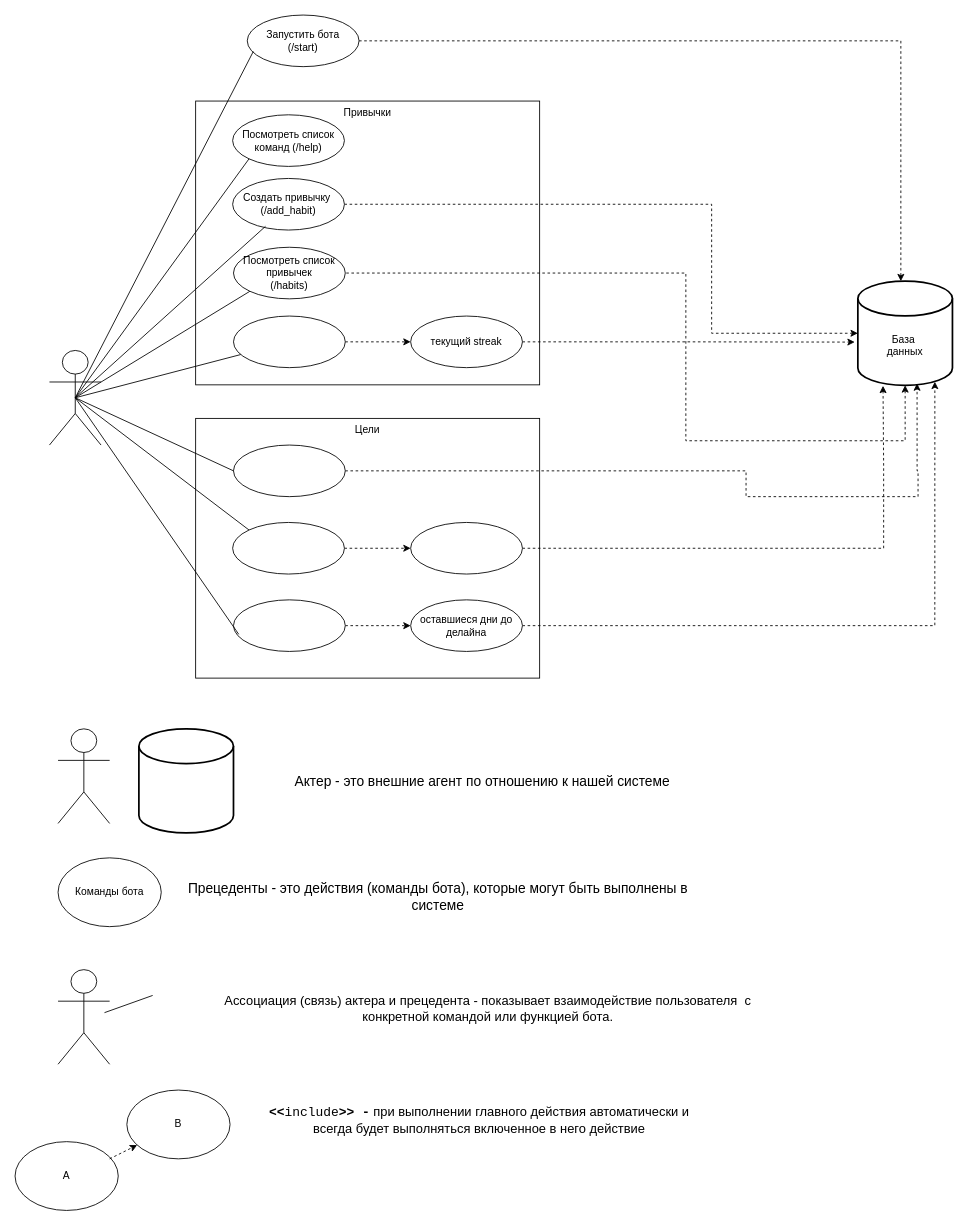
The diagram is 968 pixels wide and 1226 high, and some of its shapes have lost their labels. The shapes that lost their labels are listed below. From the top down, each one's centre as x and y in pixels, then its label:
At point 289,341: "Отметить выполненное (/done)".
At point 75,397: "Пользователь (User)".
At point 289,470: "Создать цель (/add_goal) (target and dedline)".
At point 288,548: "Посмотреть список целей (/goals)".
At point 466,548: "статус целей".
At point 289,625: "Добавить прогресс цели (/progress)".
